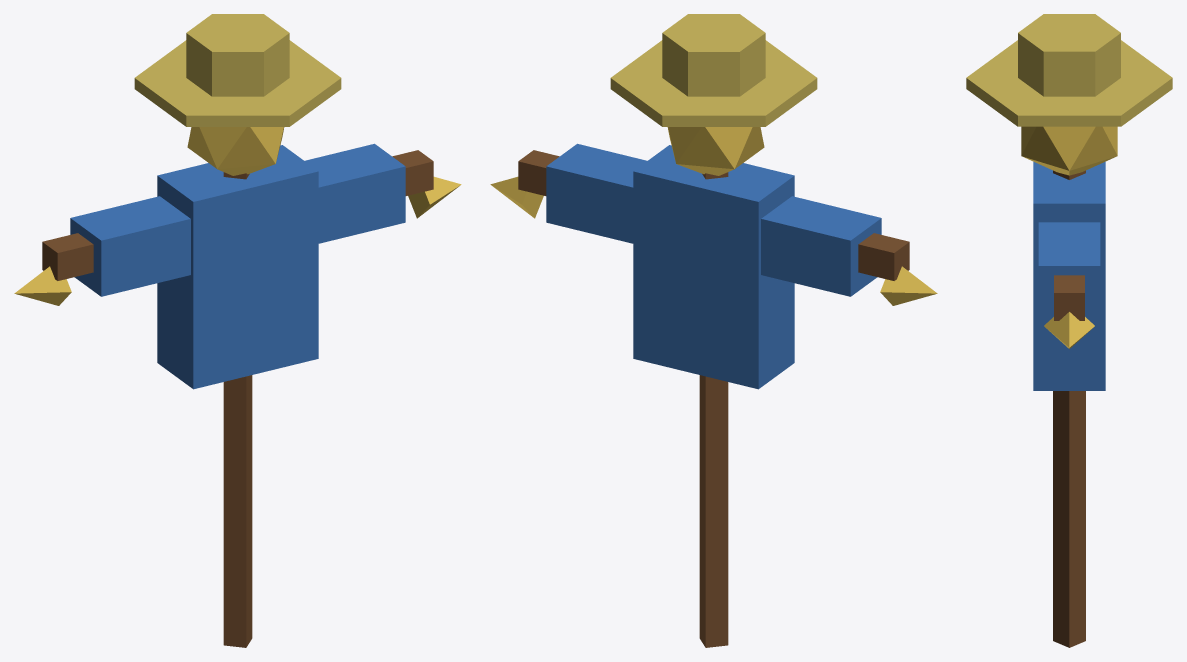
The model's file is espantalho.glb.
3 renders of one model, left to right at view 1: azimuth 30°, elevation 25°; view 2: azimuth 150°, elevation 25°; view 3: azimuth 270°, elevation 25°, orthographic.
Parts seen in each view (by area): view 1: corpo; view 2: corpo; view 3: corpo.
Boxes of the visible parts, left/top/right/bottom form: corpo: left=14, top=14, right=461, bottom=647; corpo: left=490, top=14, right=937, bottom=647; corpo: left=966, top=14, right=1172, bottom=647.
Size of the model in its own units: 0.5 by 0.65 by 0.2.
